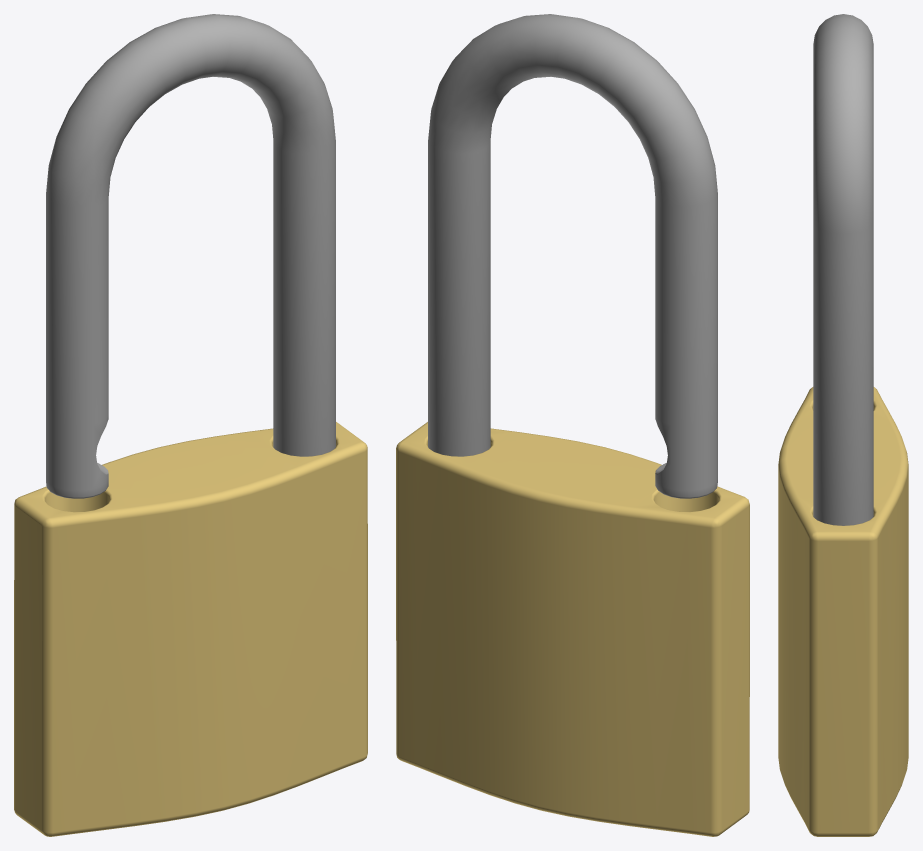
Rendered from simple_padlock.fbx.
3 renders of one model, left to right at view 1: azimuth 30°, elevation 25°; view 2: azimuth 150°, elevation 25°; view 3: azimuth 270°, elevation 25°, orthographic. The views are drawn at different scales.
Visible parts, largest first — view 1: obj1, obj3; view 2: obj1, obj3; view 3: obj1, obj3.
Boxes of the visible parts, bbox=[...] form: obj1: bbox=[14, 422, 367, 836]; obj3: bbox=[46, 14, 335, 498]; obj1: bbox=[396, 422, 749, 836]; obj3: bbox=[428, 14, 717, 498]; obj1: bbox=[778, 387, 908, 836]; obj3: bbox=[813, 14, 873, 525].
Bounding box in the file's own units: 286 × 646 × 104.
3 materials, 3 textured.
